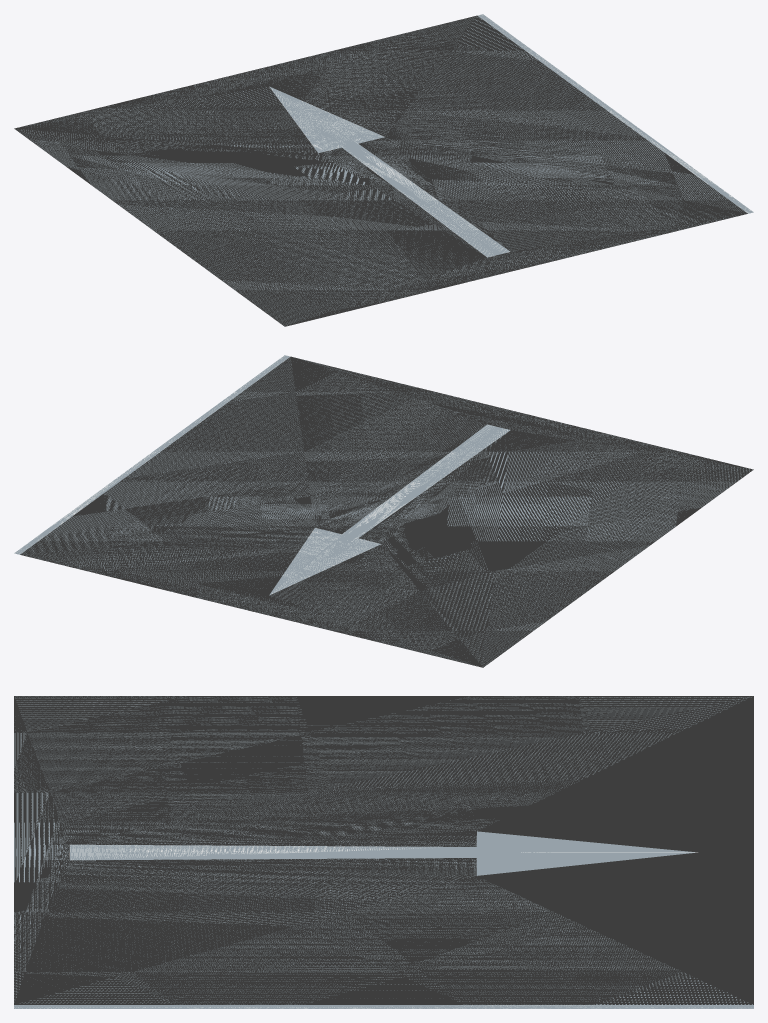
Rendered from single_lane_arrow.fbx.
The picture shows the model from 3 angles, top to bottom: view 1: azimuth 30°, elevation 25°; view 2: azimuth 150°, elevation 25°; view 3: azimuth 270°, elevation 25°; orthographic projection. The views are drawn at different scales.
Parts seen in each view (by area): view 1: Model; view 2: Model; view 3: Model.
Part boxes in pixels (x1,y1,x2,y2): Model: [14, 14, 753, 326]; Model: [14, 355, 753, 667]; Model: [14, 696, 753, 1008].
Size of the model in its own units: 4 by 0 by 4.
